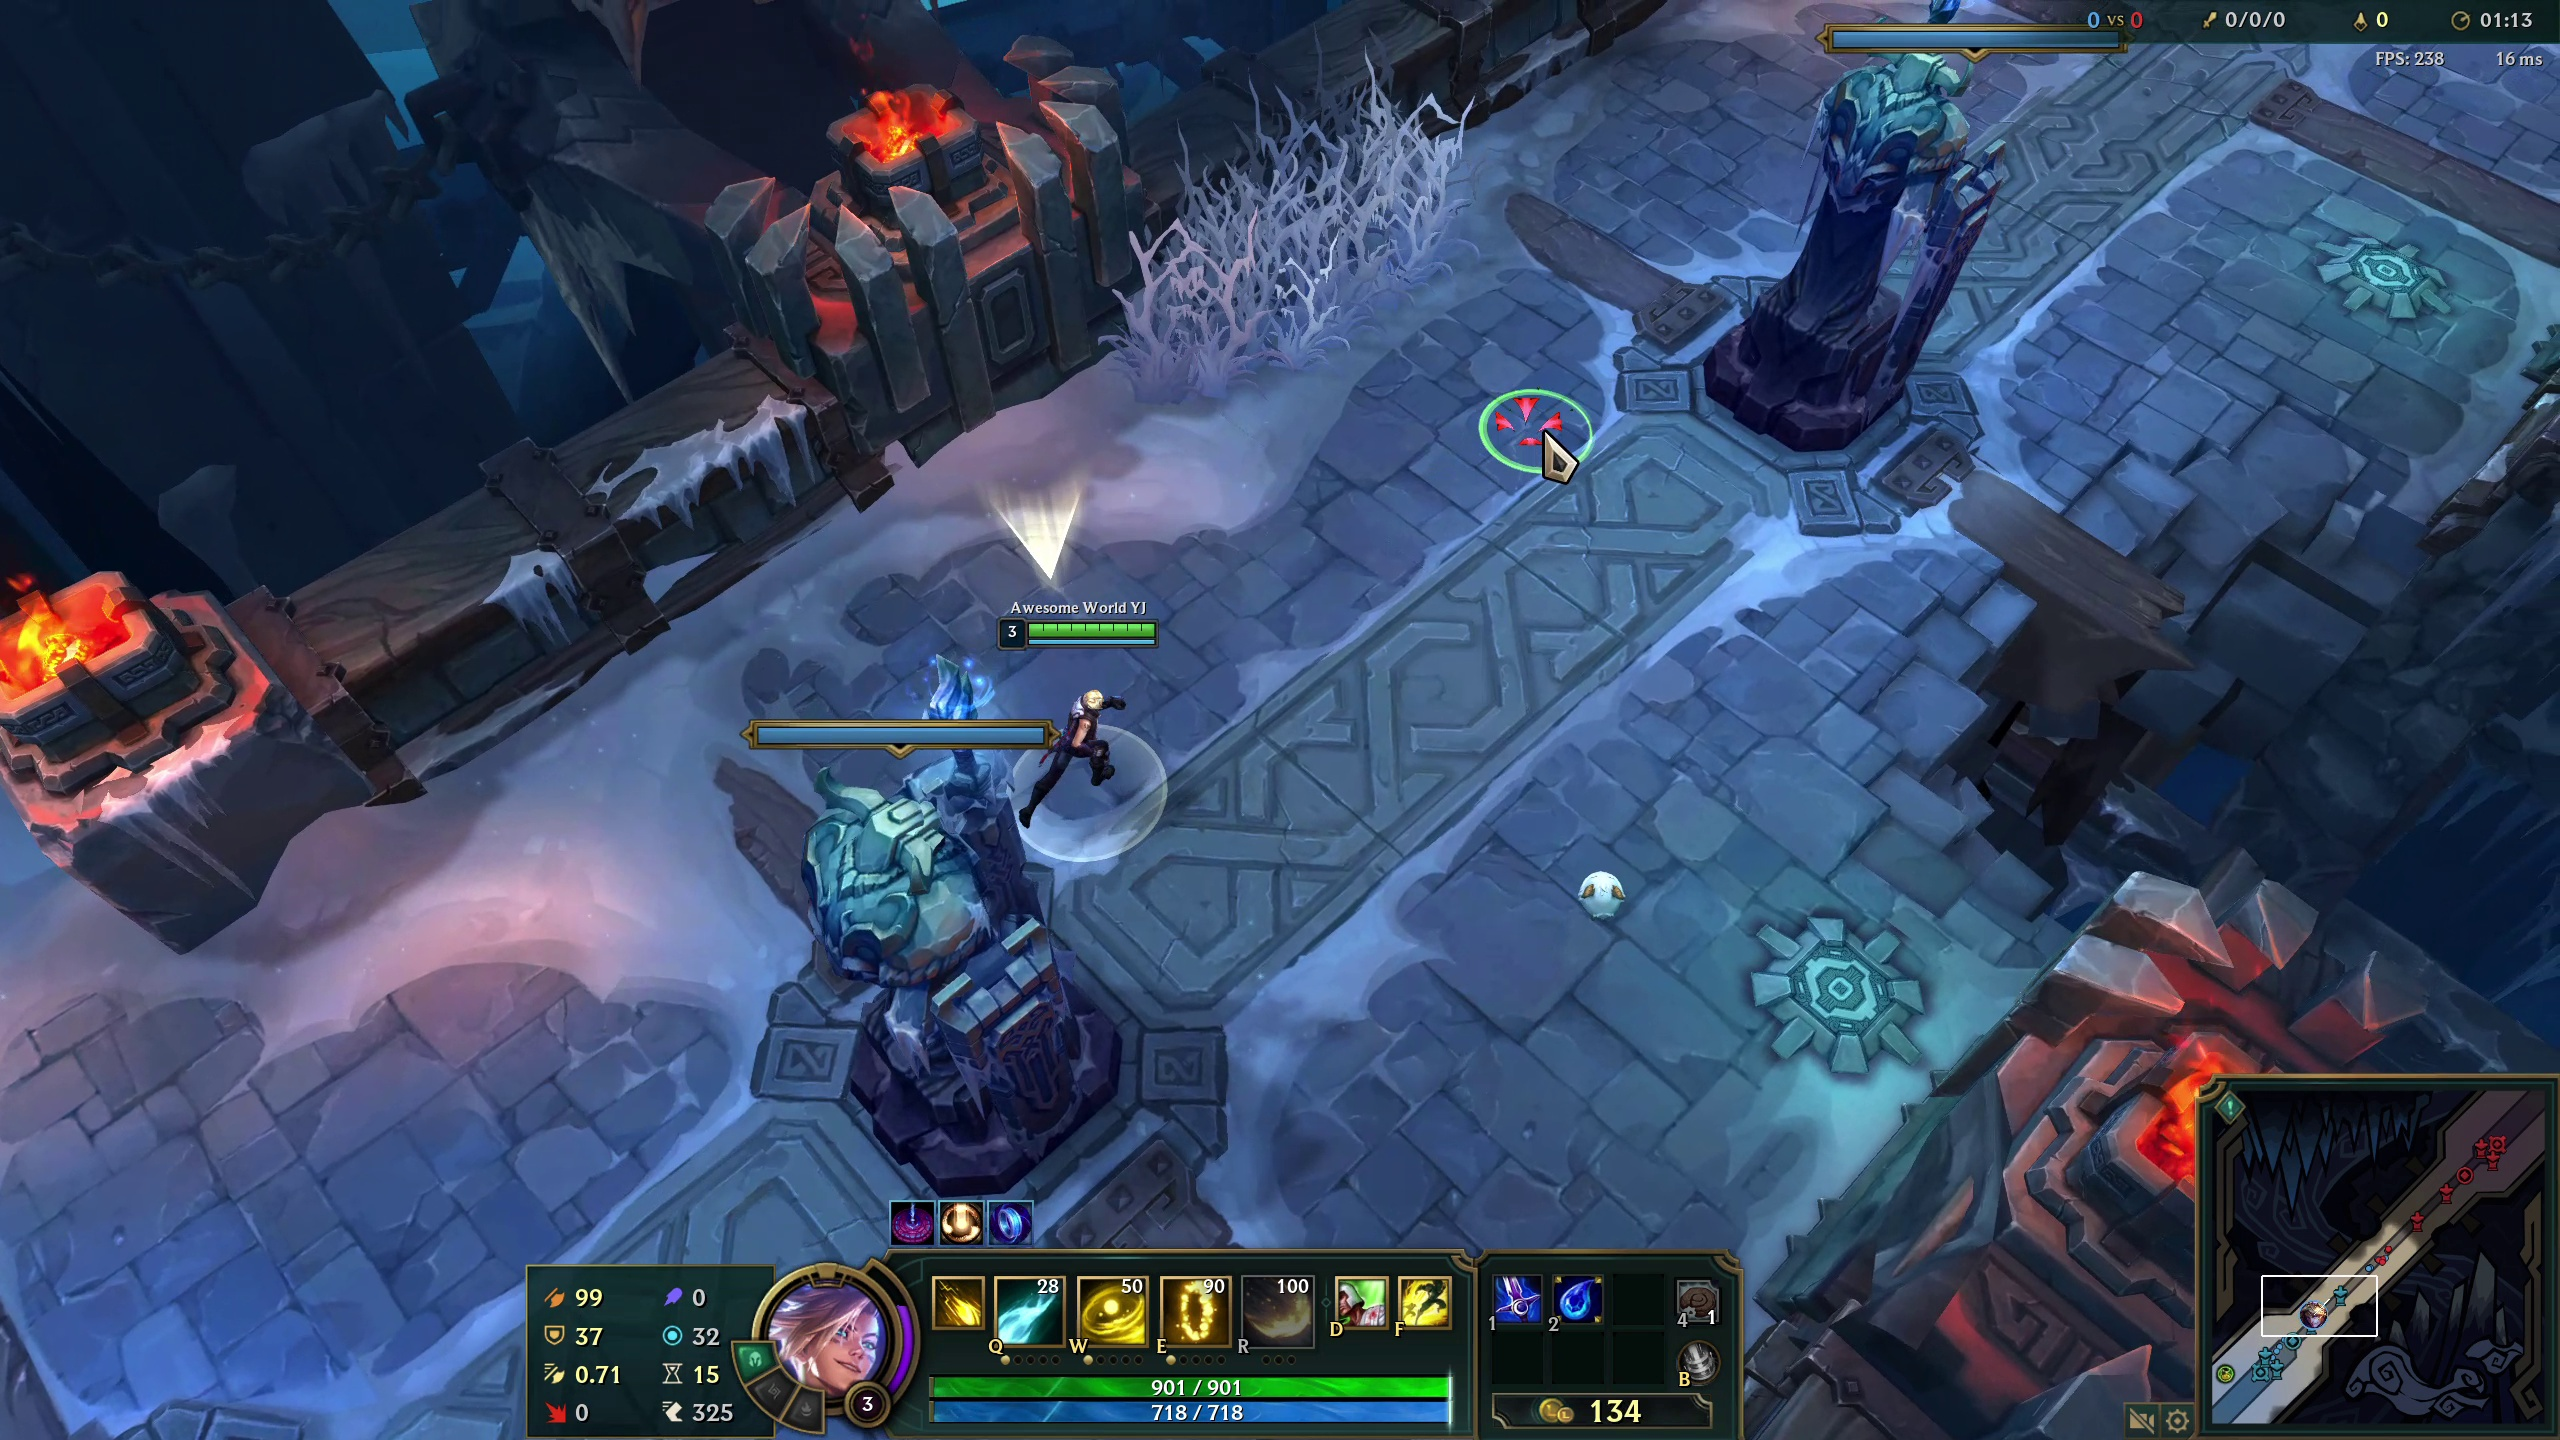EZ: (1006, 615, 1162, 842)
Glass: (1116, 95, 1475, 378)
MyTurret: (1727, 72, 2003, 464), (833, 728, 1023, 1225)
